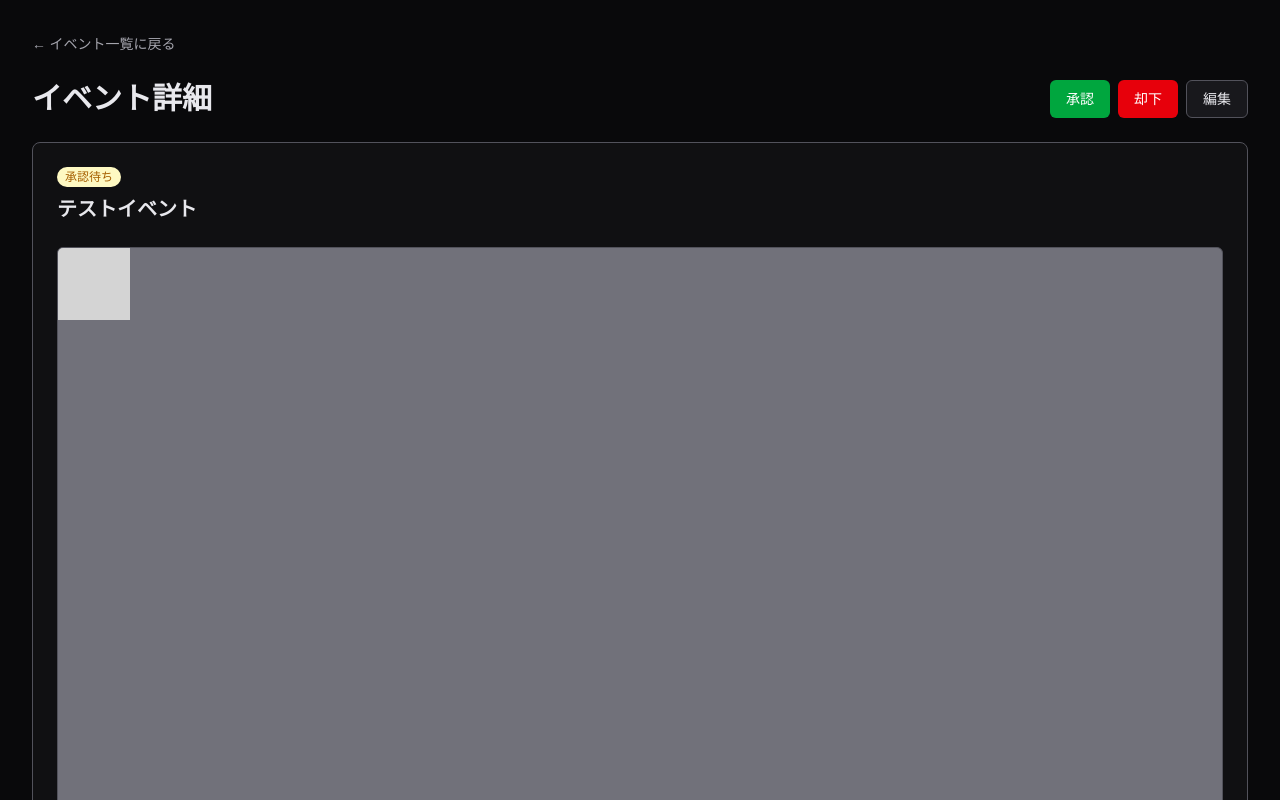
Test: AdminEventDetailPage › 却下ボタンをクリックすると、却下確認モーダルを表示する
This screenshot has width=1280, height=800.
Click the button "却下": [1148, 99] box [1118,80,1178,118]
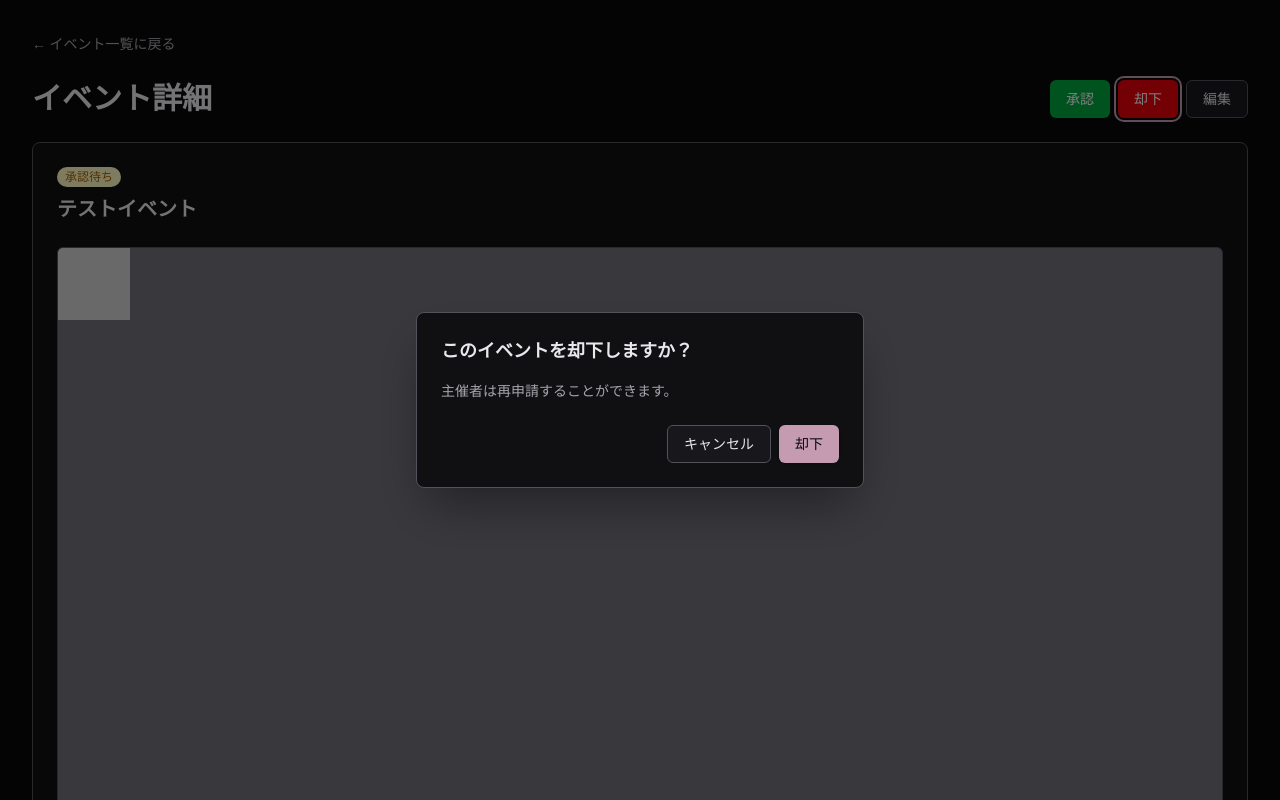
Expected: the text "このイベントを却下しますか？" is shown, [441,339,693,362]
